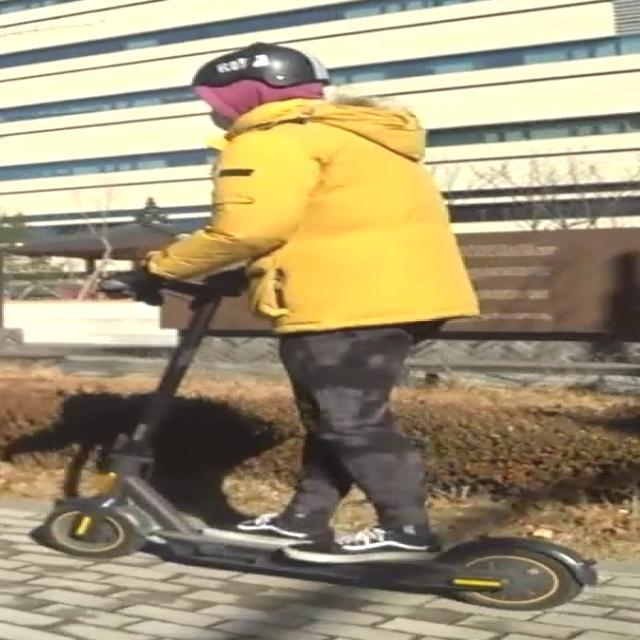helmet: (190, 34, 328, 127)
human: (129, 40, 456, 570)
kickboard: (21, 504, 591, 615), (611, 482, 613, 484)
